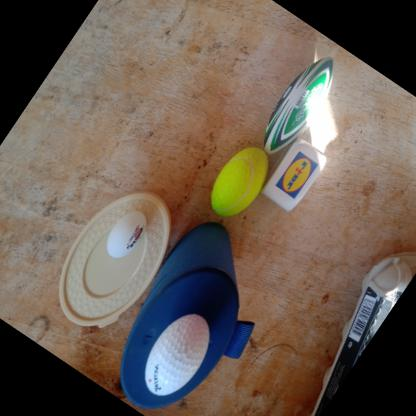Cube: (255, 130, 334, 218)
Golf: (128, 300, 224, 408)
Rugby: (246, 42, 351, 170)
Tabel Tennis: (97, 201, 155, 265)
Tennis: (196, 134, 282, 230)
